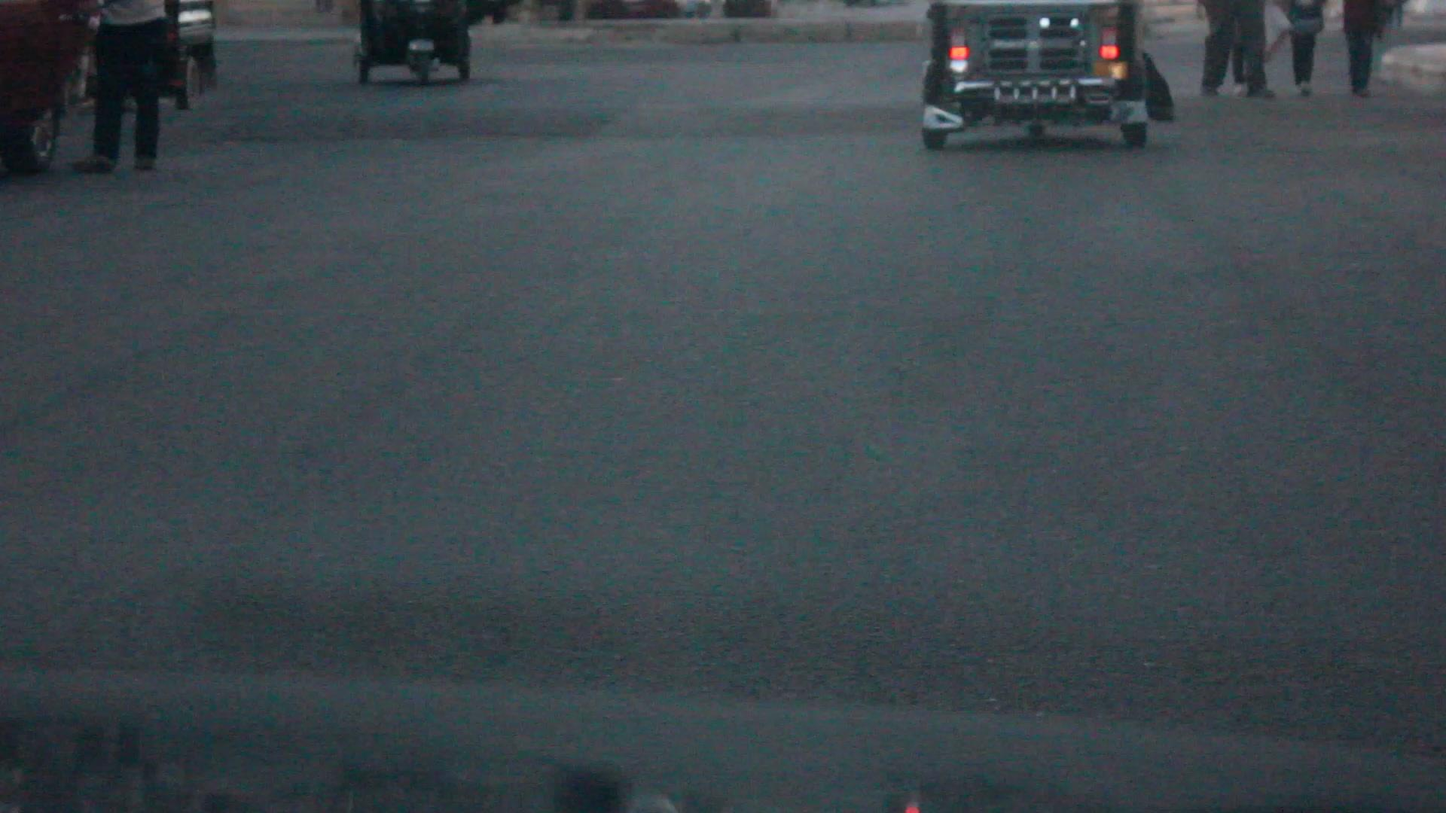Bump: (105, 79, 925, 140), (1166, 54, 1445, 152)
